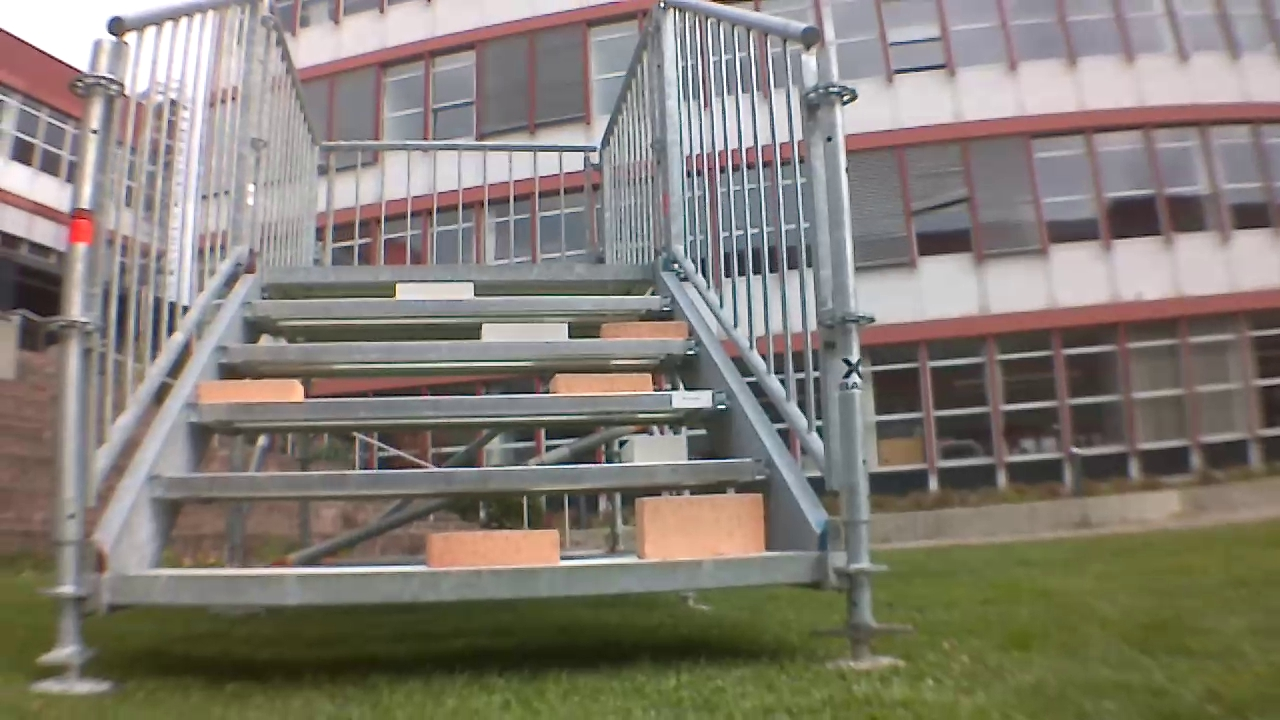brick: (631, 495, 768, 556), (416, 530, 555, 571), (542, 367, 659, 397), (193, 380, 307, 408), (597, 319, 688, 345), (391, 277, 473, 300), (626, 435, 690, 464), (475, 324, 568, 343)
edge: (104, 554, 829, 610), (144, 457, 780, 504), (189, 390, 729, 427), (240, 295, 679, 325), (213, 341, 701, 367), (263, 263, 654, 288)
stairs: (68, 1, 849, 666)
steps: (88, 261, 864, 596)
